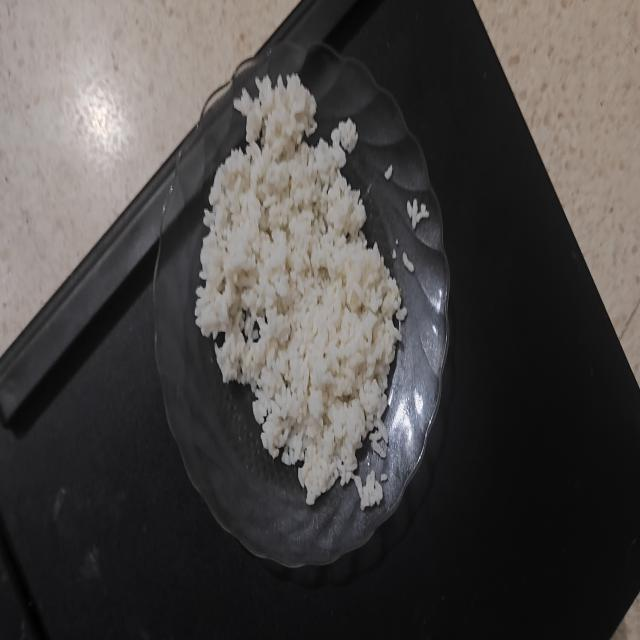nasi_putih: (195, 74, 406, 498)
